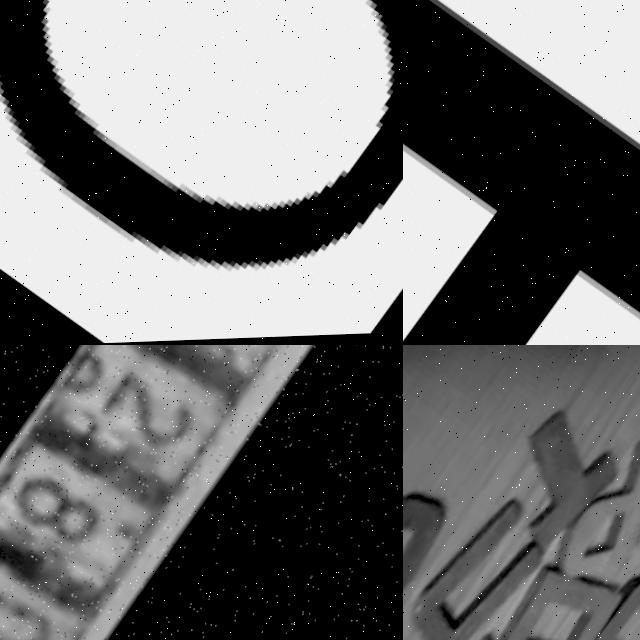0: (0, 560, 84, 640)
2: (101, 361, 215, 474)
8: (0, 449, 120, 568)
D: (481, 540, 633, 640)
F: (403, 0, 640, 345)
O: (567, 561, 640, 640)
P: (536, 413, 640, 612)
Q: (0, 0, 403, 345)
S: (403, 443, 469, 637)
T: (479, 409, 623, 561)
U: (403, 484, 569, 640)
